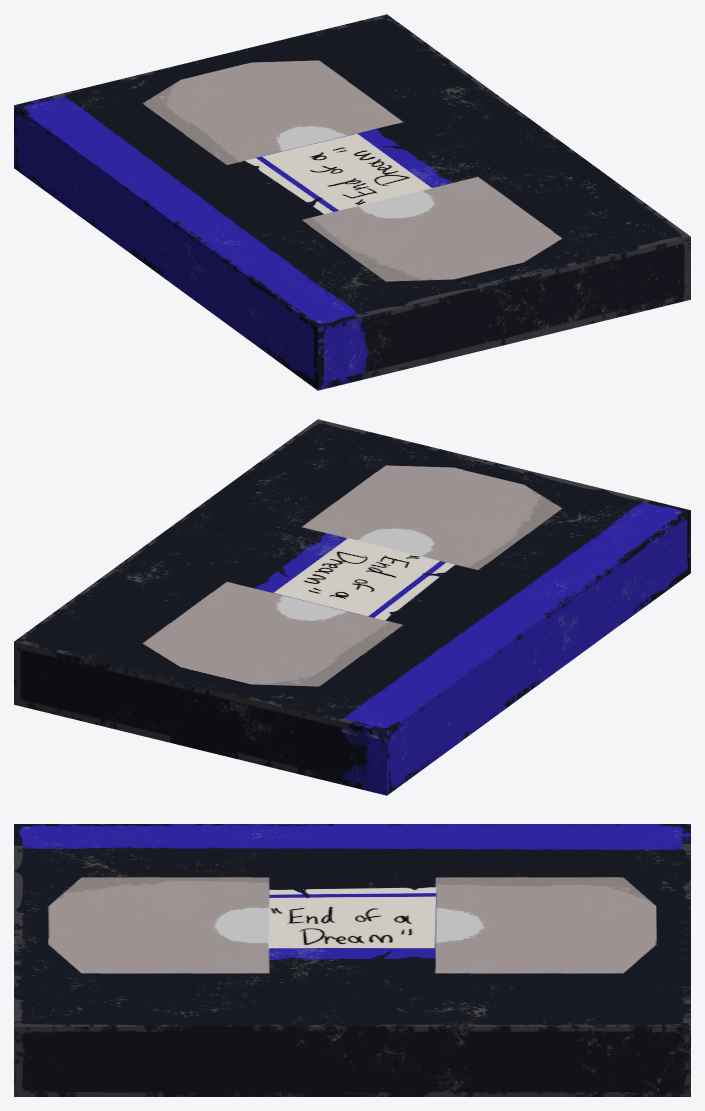
Rendered from VHS_Tape_End Dream.fbx.
3 renders of one model, top to bottom at view 1: azimuth 30°, elevation 25°; view 2: azimuth 150°, elevation 25°; view 3: azimuth 270°, elevation 25°, orthographic. The views are drawn at different scales.
Parts seen in each view (by area): view 1: VHS_01; view 2: VHS_01; view 3: VHS_01.
Boxes of the visible parts, x1,y1,x2,y2 form: VHS_01: (14, 14, 690, 390); VHS_01: (14, 419, 690, 795); VHS_01: (14, 824, 690, 1096).
Size of the model in its own units: 0.4127 by 0.0666 by 0.5824.
1 material, 1 textured.
